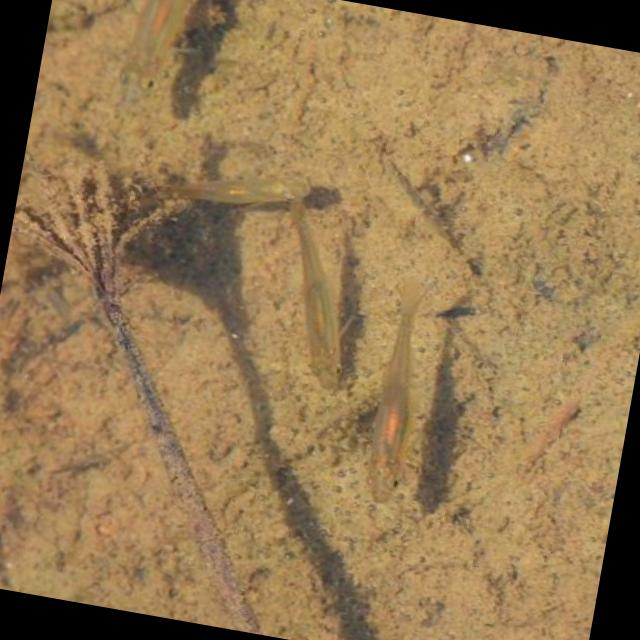Cakil Baligi: (246, 189, 378, 394), (352, 250, 446, 512), (140, 138, 326, 232)
